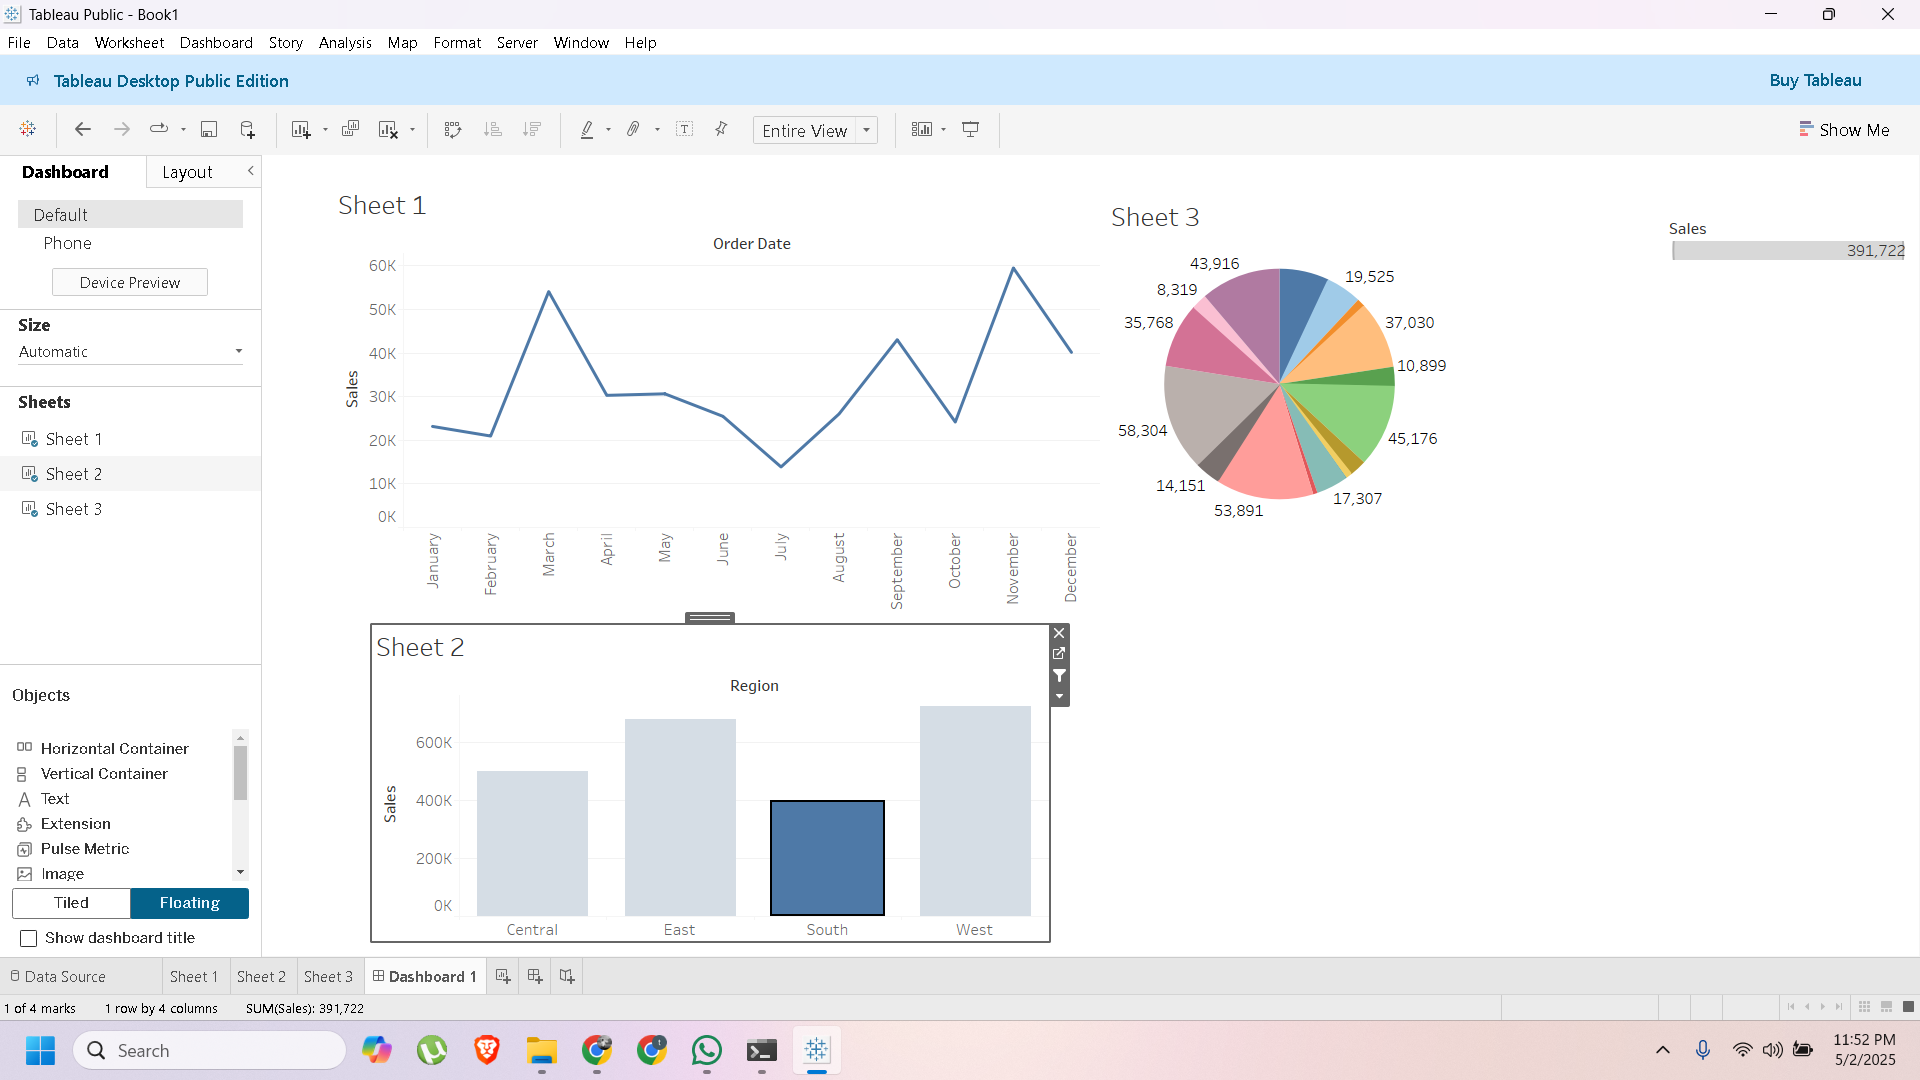

The dashboard page shown, as its layout file describes it:
{"tool":"tableau","page":{"name":"Dashboard 1","canvas":[1000,1000],"units":"permille","ordinal":0},"visuals":[{"type":"worksheet","title":"Sheet 1","mark":"Automatic","rows":["Sales"],"cols":["Order Date"],"box":[43.5,35,462.3,554.3]},{"type":"worksheet","title":"Sheet 3","mark":"Pie","box":[510,49.9,320.5,470.7]},{"type":"legend","title":"Sheet 3","param":"[federated.0s47rs51ssgf8y13znfwb18qs4qz].[sum:Sales:qk]","box":[849.1,78.7,145.4,53.7]},{"type":"worksheet","title":"Sheet 2","mark":"Automatic","rows":["Sales"],"cols":["Region"],"box":[66.4,586.8,408.6,394.5]}]}

Visuals, with their boxes on the dashboard's canvas, which has no fixed pixel size, in thousandths of its width and height (x1, y1, x2, y2). These are canvas units, not pixel positions in the 1920x1080 screenshot, which may show the page scaled, cropped or inside an application window:
"Sheet 1" worksheet: left=44, top=35, right=506, bottom=589
"Sheet 3" worksheet (Pie marks): left=510, top=50, right=830, bottom=521
"Sheet 3" legend: left=849, top=79, right=994, bottom=132
"Sheet 2" worksheet: left=66, top=587, right=475, bottom=981
